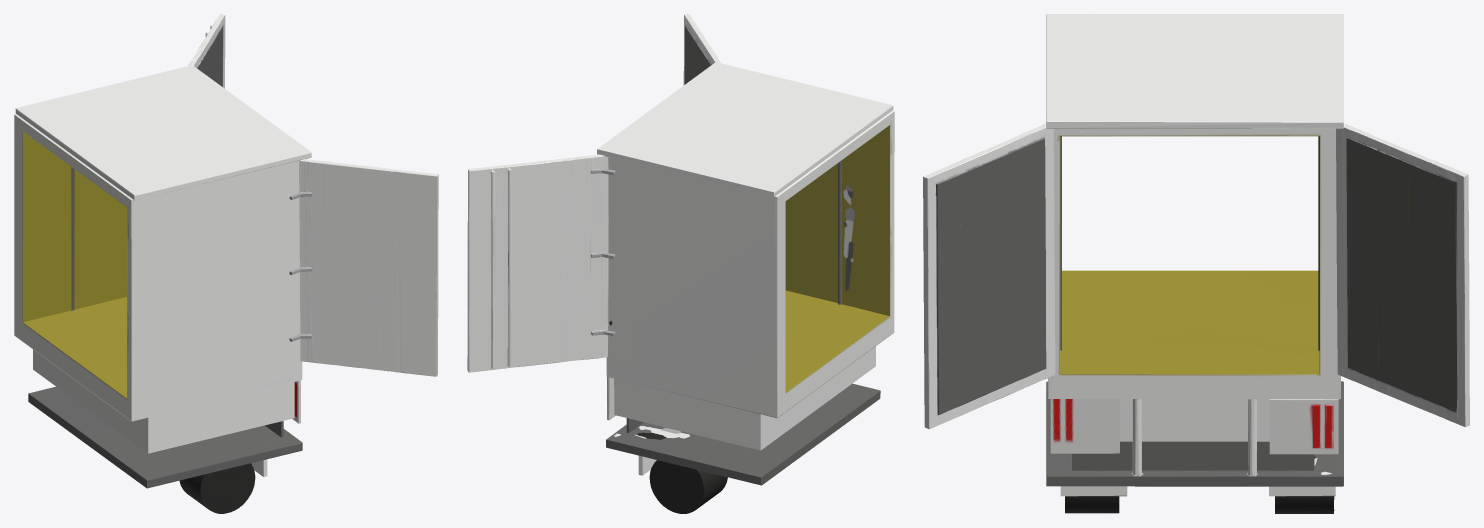
File: lkw.glb
The picture shows the model from 3 angles, left to right: view 1: azimuth 30°, elevation 25°; view 2: azimuth 150°, elevation 25°; view 3: azimuth 270°, elevation 25°; orthographic projection. The views are drawn at different scales.
Parts seen in each view (by area): view 1: 273037_23_05_16_10_48_57_0; view 2: 273037_23_05_16_10_48_57_0; view 3: 273037_23_05_16_10_48_57_0.
Boxes of the visible parts, x1,y1,x2,y2 form: 273037_23_05_16_10_48_57_0: (14, 14, 438, 513); 273037_23_05_16_10_48_57_0: (467, 14, 894, 513); 273037_23_05_16_10_48_57_0: (923, 14, 1469, 513).
Size of the model in its own units: 7.54 by 9.64 by 10.99.
1 material, 1 textured.
